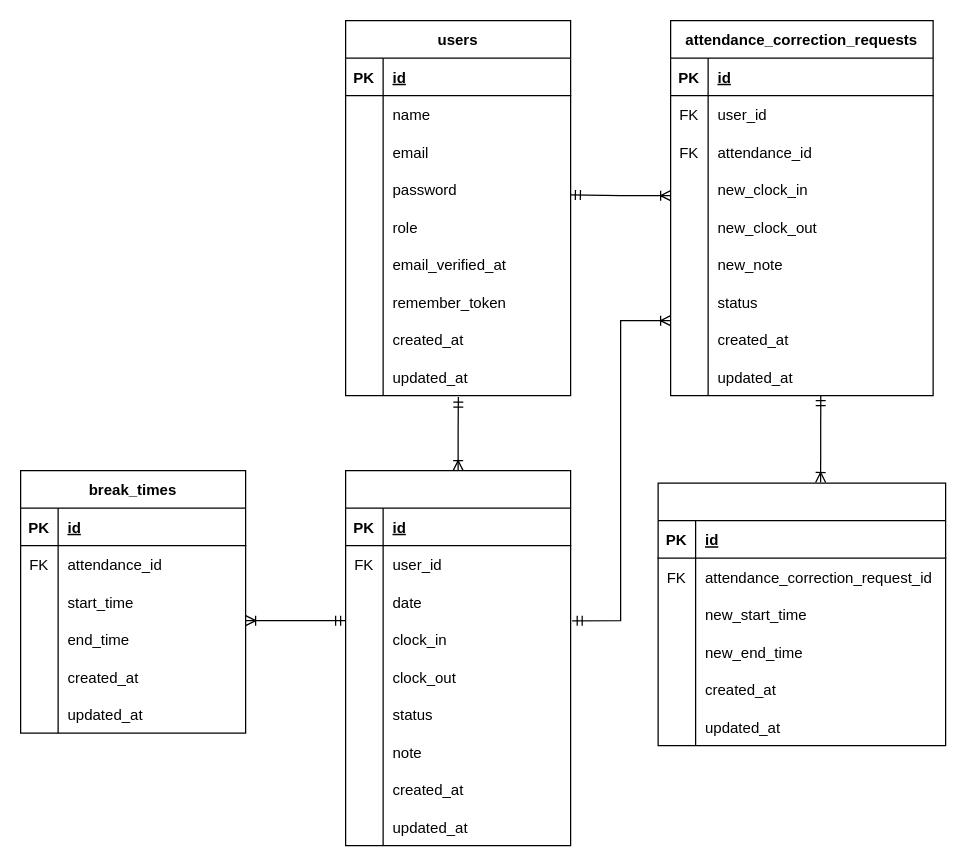
The diagram is 966 pixels wide and 866 high, and some of its shapes have lost their labels. The shapes that lost their labels are listed below. From the top down, each one's box as (x1, y1, x2, y2) in pixels, then its label:
(657, 482, 946, 746): attendance_correction_break_times
(344, 469, 571, 846): attendances
